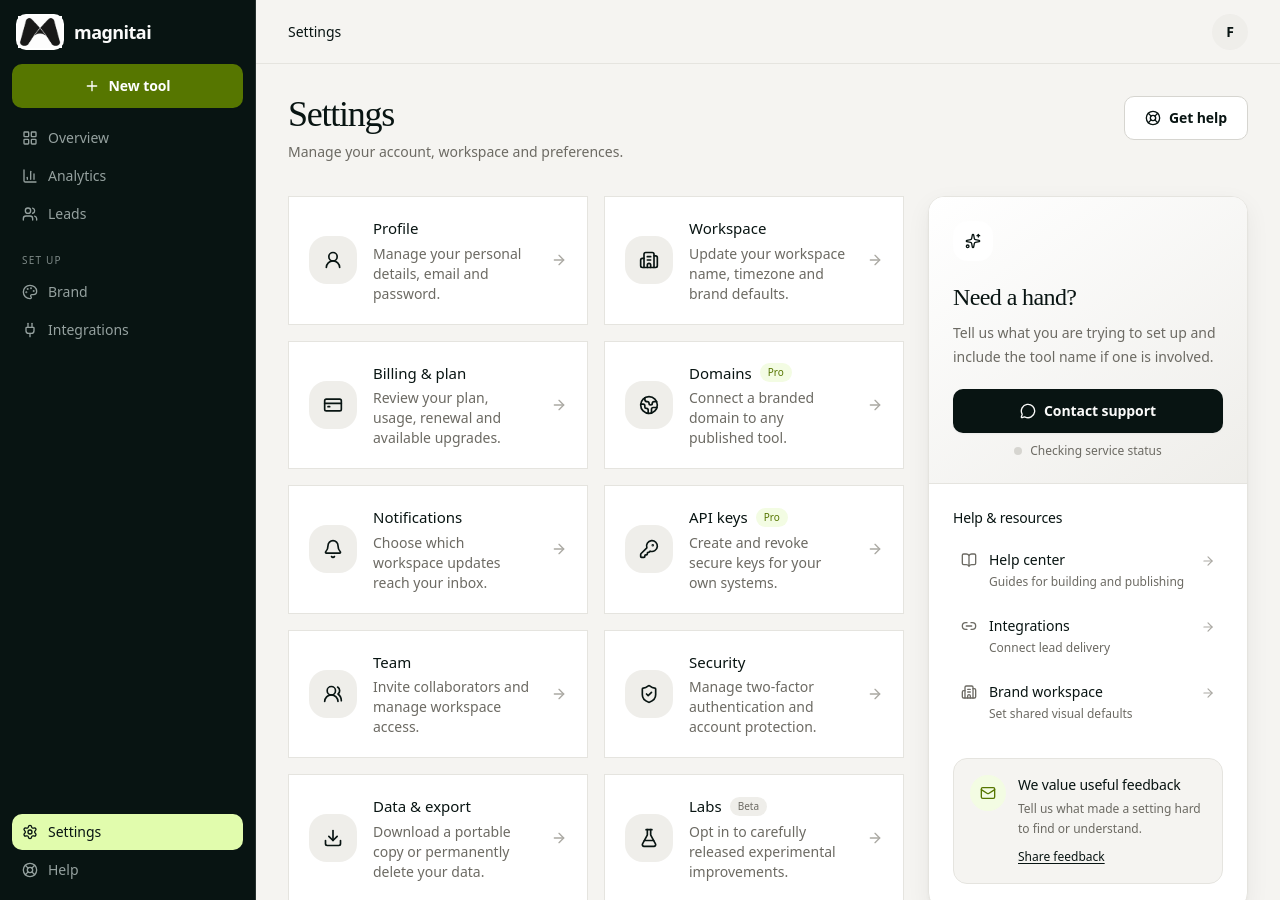
Scenario: settings route › changing the password › requires both fields before it will submit
Click the link "Profile Manage your personal details, email and password." at (438, 260), box [288,196,588,324]
(page scrolled)
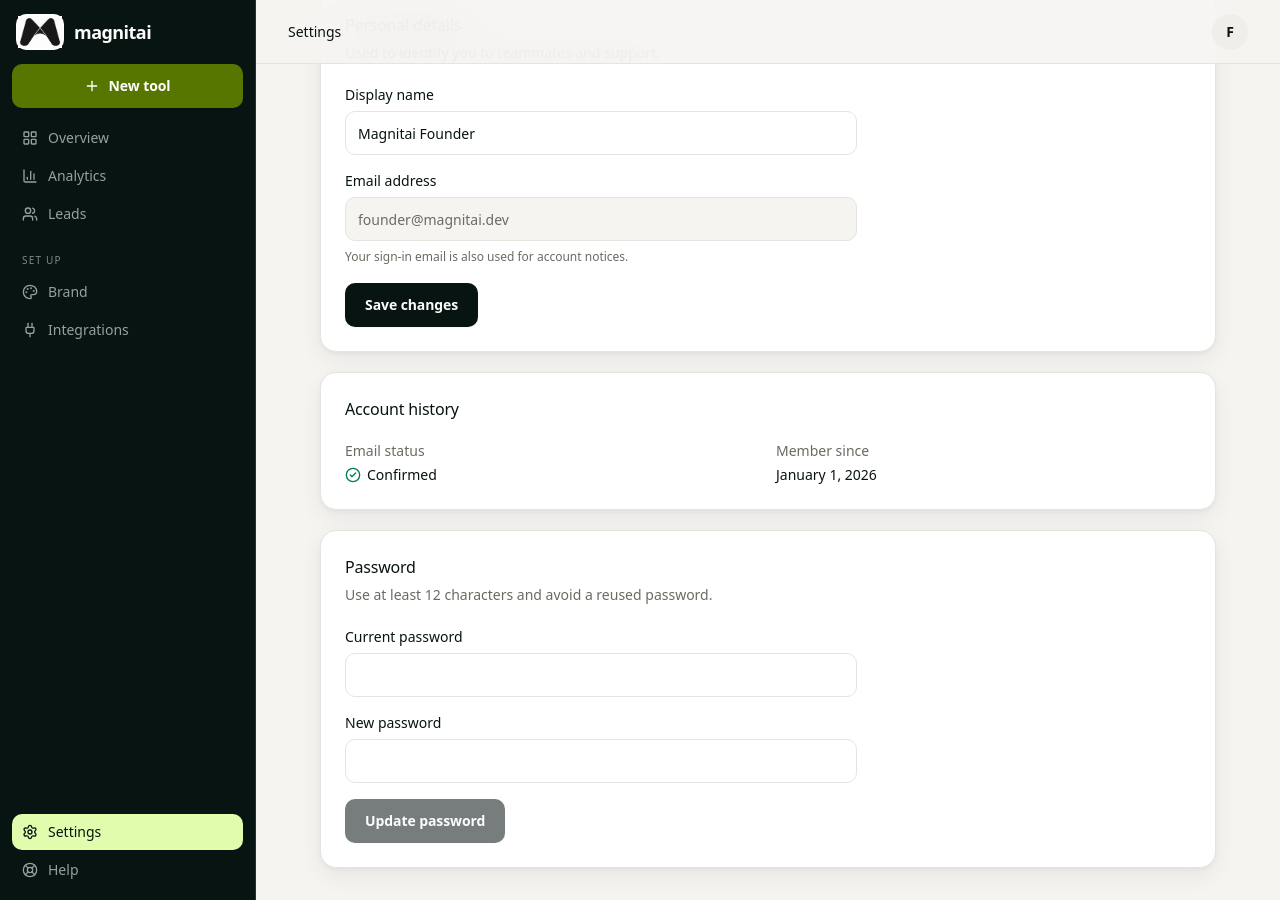
expect the button "Update password" is disabled: met, box [345,799,505,843]
Type "old-one" into the password field labelled "Current password" at (601, 675), box [345,653,857,697]
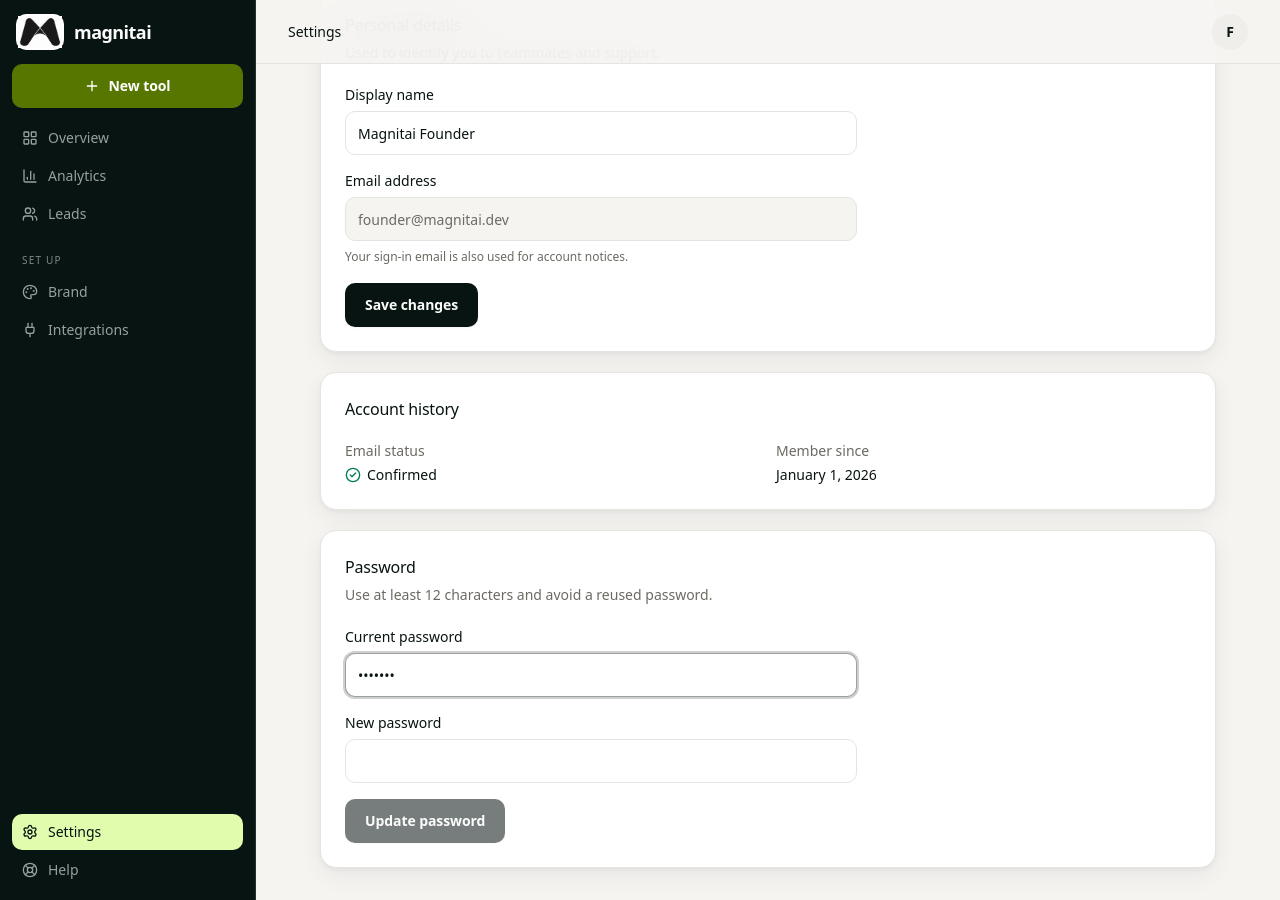
expect the button "Update password" is disabled: met, box [345,799,505,843]
Type "a-much-longer-new-one" into the password field labelled "New password" at (601, 761), box [345,739,857,783]
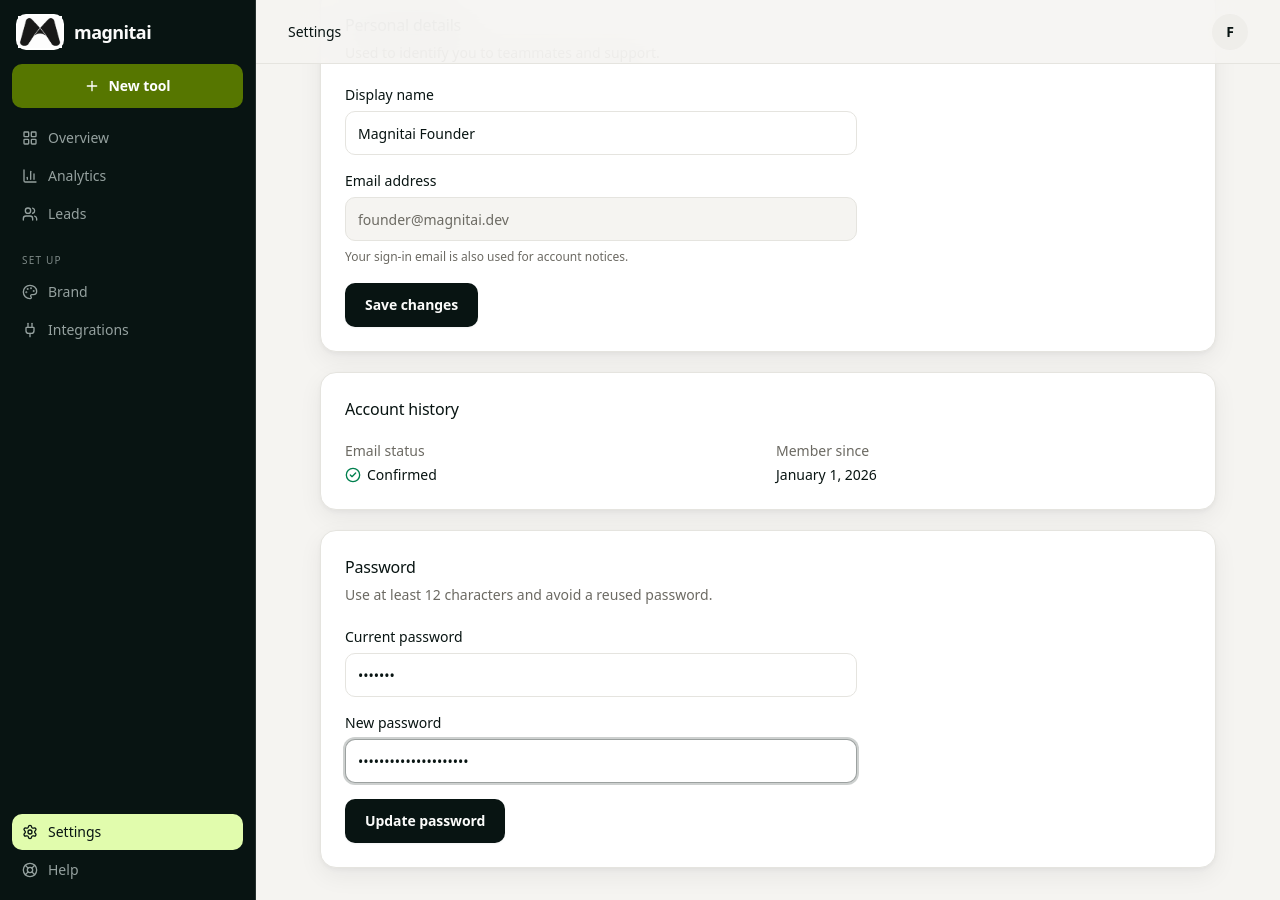
expect the button "Update password" is enabled: met, box [345,799,505,843]
